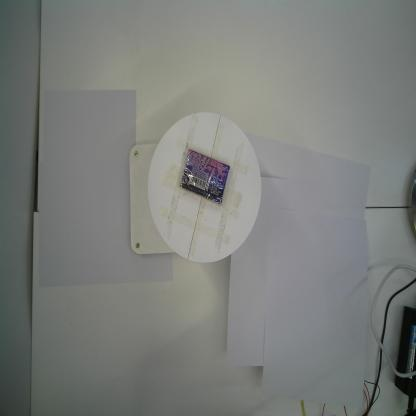Gum: (178, 149, 231, 207)
